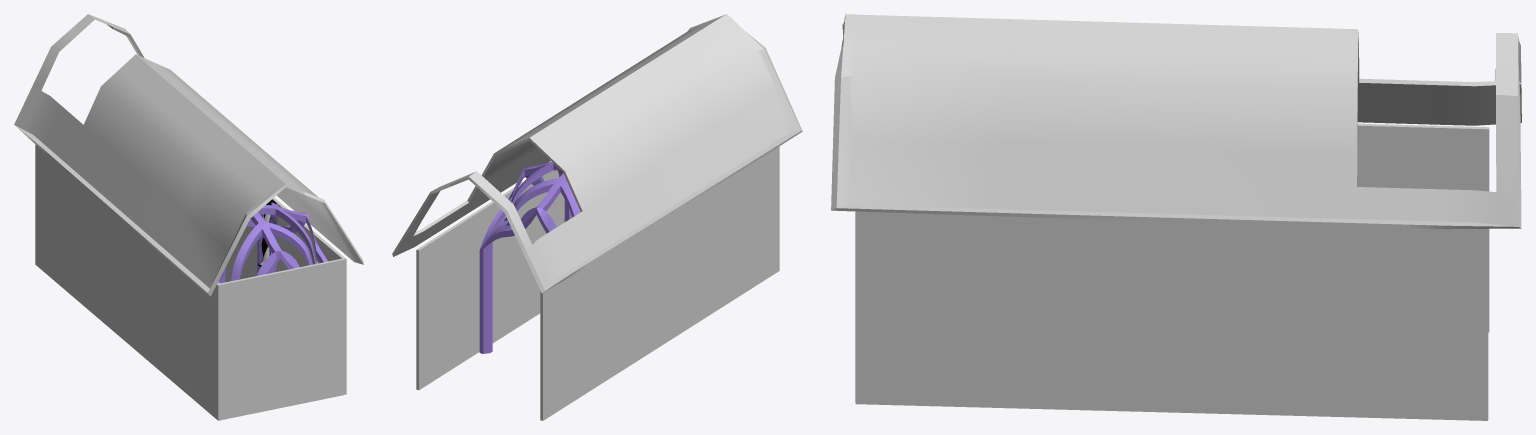
File: librarytemp.fbx
3 views of the same model, side by side, from view 1: azimuth 30°, elevation 25°; view 2: azimuth 150°, elevation 25°; view 3: azimuth 270°, elevation 25° (orthographic). The views are drawn at different scales.
Parts seen in each view (by area): view 1: FakeWalls01; view 2: FakeWalls01; view 3: FakeWalls01.
Boxes of the visible parts, <box> form: FakeWalls01: <box>14,14,363,420</box>; FakeWalls01: <box>392,14,802,420</box>; FakeWalls01: <box>831,14,1521,420</box>.
Bounding box in the file's own units: 10902 × 13644 × 24785.
